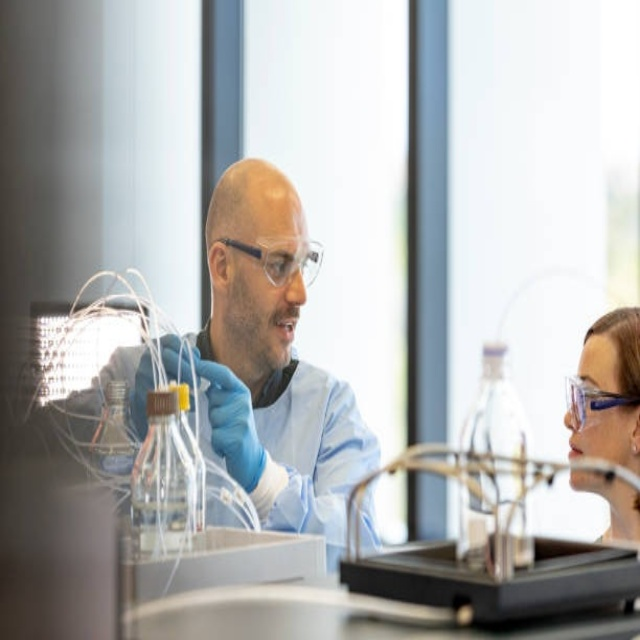Gafas: (345, 444, 639, 585), (215, 236, 323, 289), (564, 377, 640, 430)
Guantes: (191, 349, 267, 496), (128, 334, 206, 443)
Sin_mascara: (264, 306, 303, 358), (566, 430, 591, 491)
